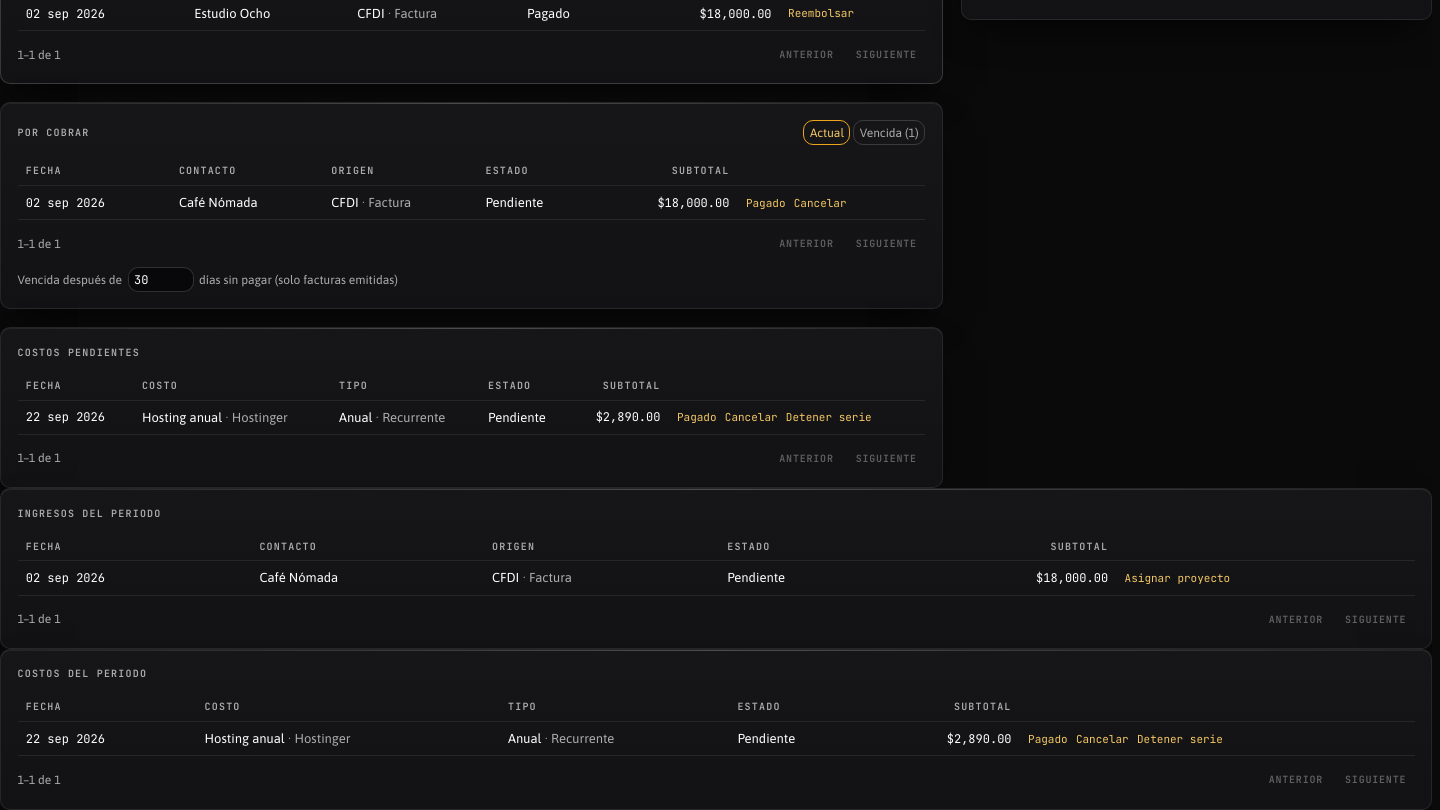
Scenario: Finanzas › shows main’s refusal in the dialog, and writes nothing when closed
(page scrolled)
Click the button "Asignar proyecto" at (1177, 578), box [1125,570,1230,586]
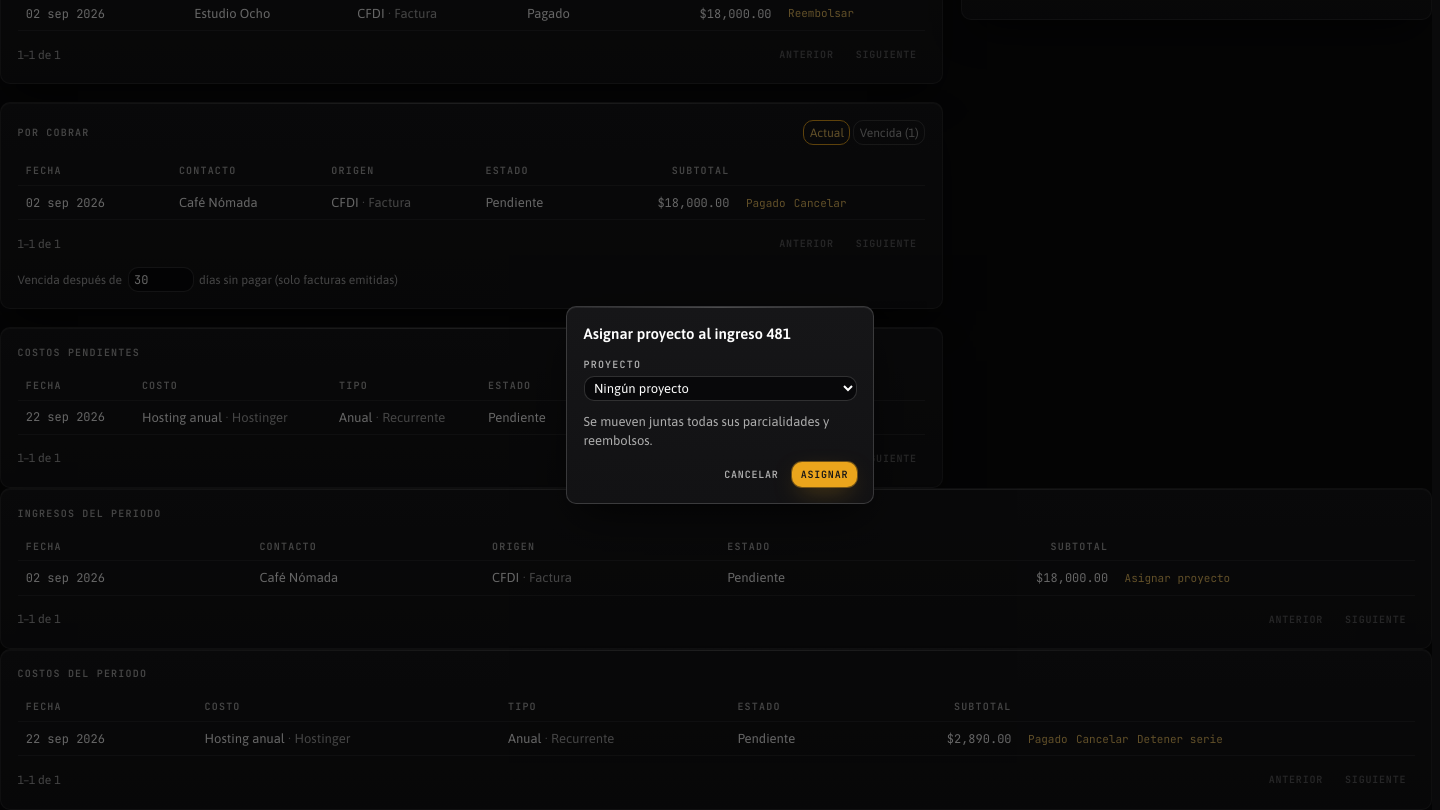
Check: the dropdown labelled "Proyecto" is shown, box [584,376,856,401]
Click the button "Asignar" at (824, 474), box [792,462,856,487]
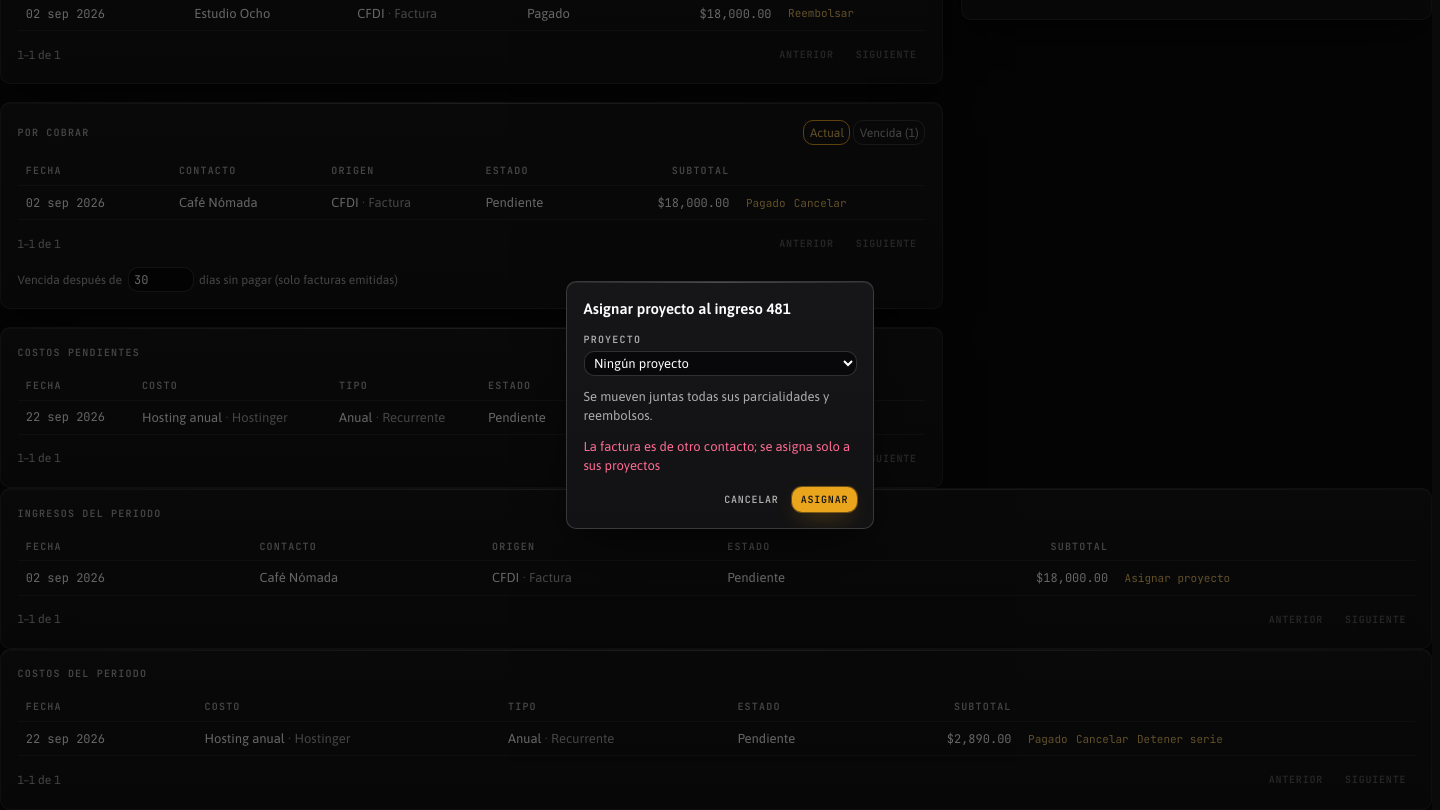
Check: the text "La factura es de otro contacto; se asigna solo a sus proyectos" is shown, box [584,437,856,476]
Click the button "Cancelar" at (751, 499), box [716,487,787,512]
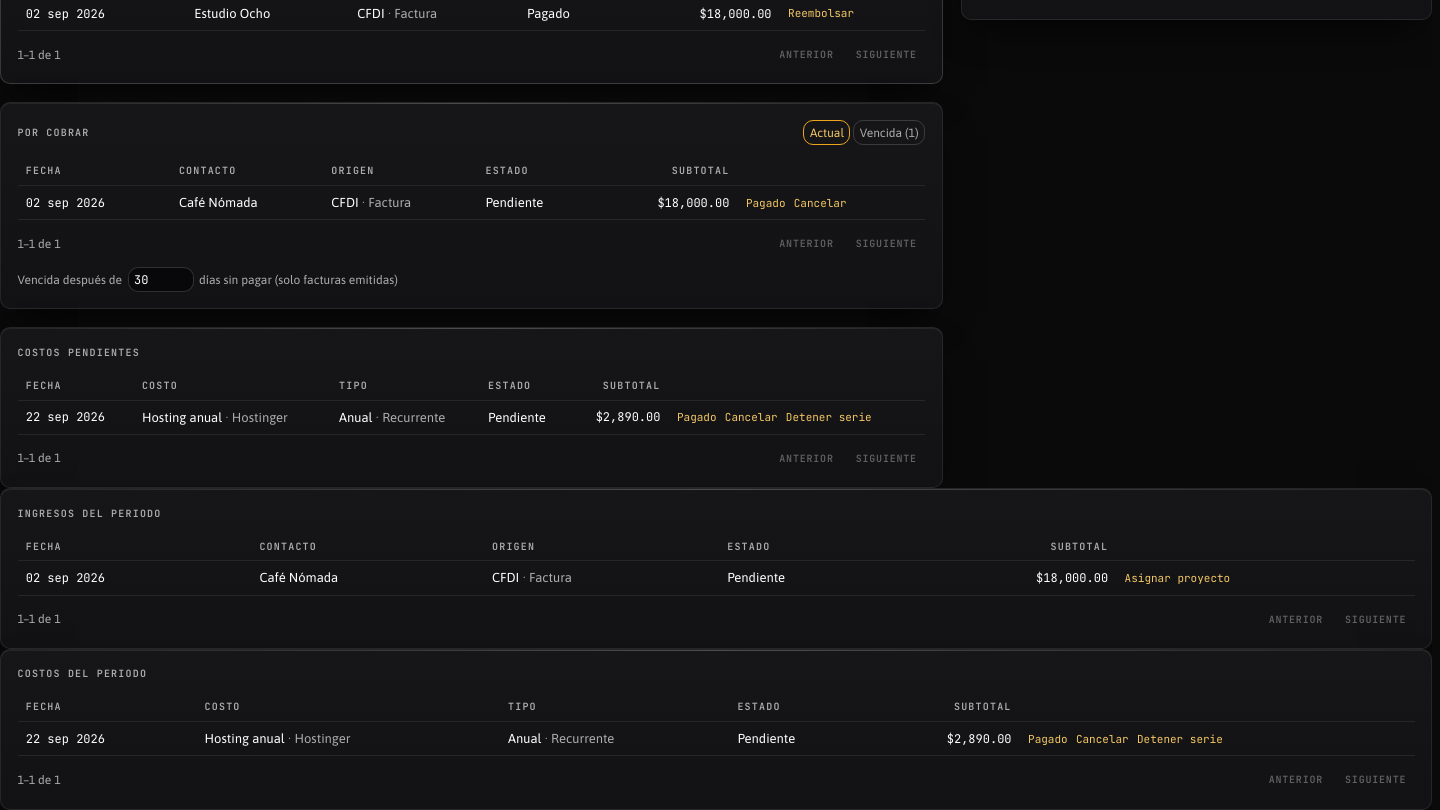
Check: the dialog is gone
